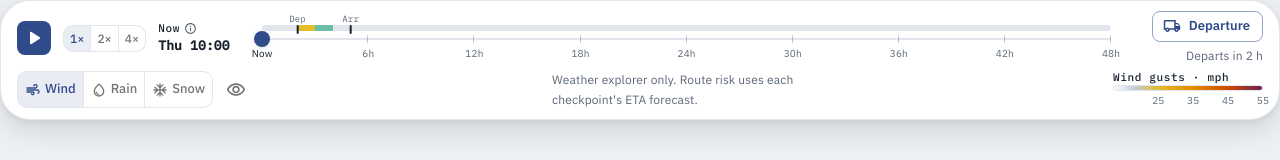
Test: TimelineBar › jumps to the departure hour
Click the button "Departure".
click(1207, 26)  # box [1152,11,1263,42]
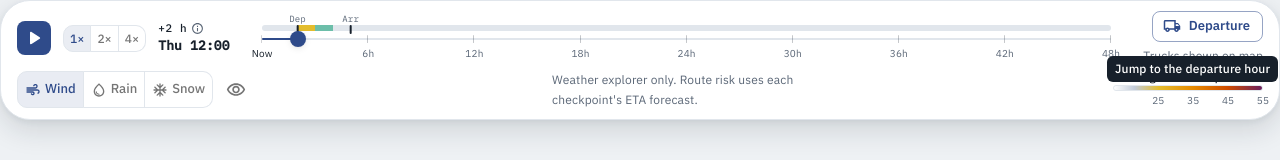
Expected: the text "+2 h" is shown, [158,21,187,36]
